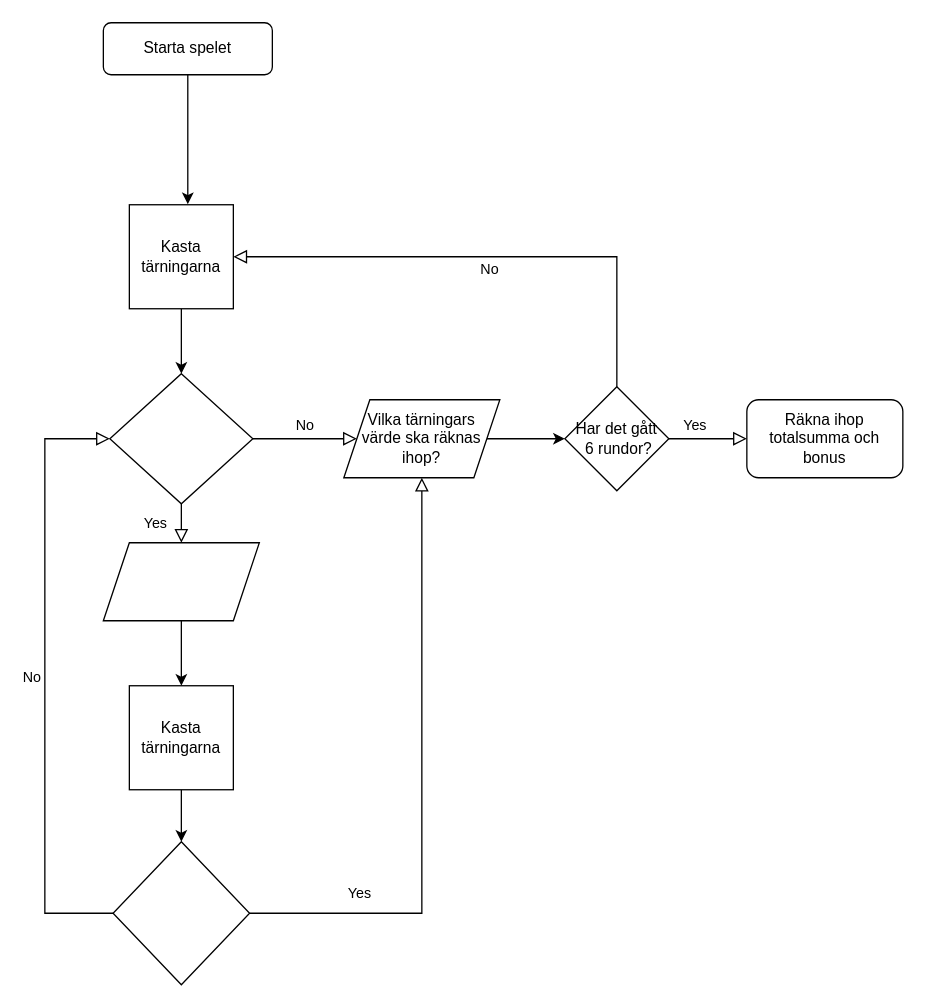
Some shapes in this 926 by 1007 pixel diagram are drawn without their labels. The centre of each missing label's shape, as x and y in pixels:
Har spelaren kastat tre gånger?: pixel 181 912
Vilka tärningar ska kastas?: pixel 180 581
Vill spelaren kasta igen?: pixel 181 438
